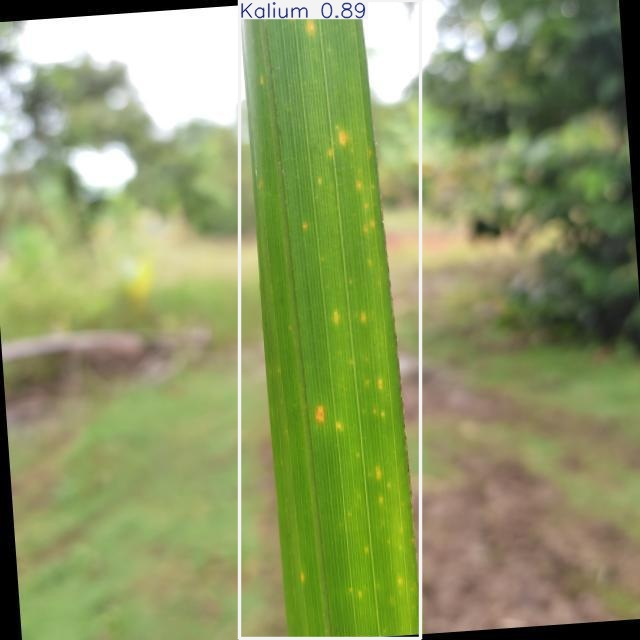Kalium: (240, 0, 421, 638)
